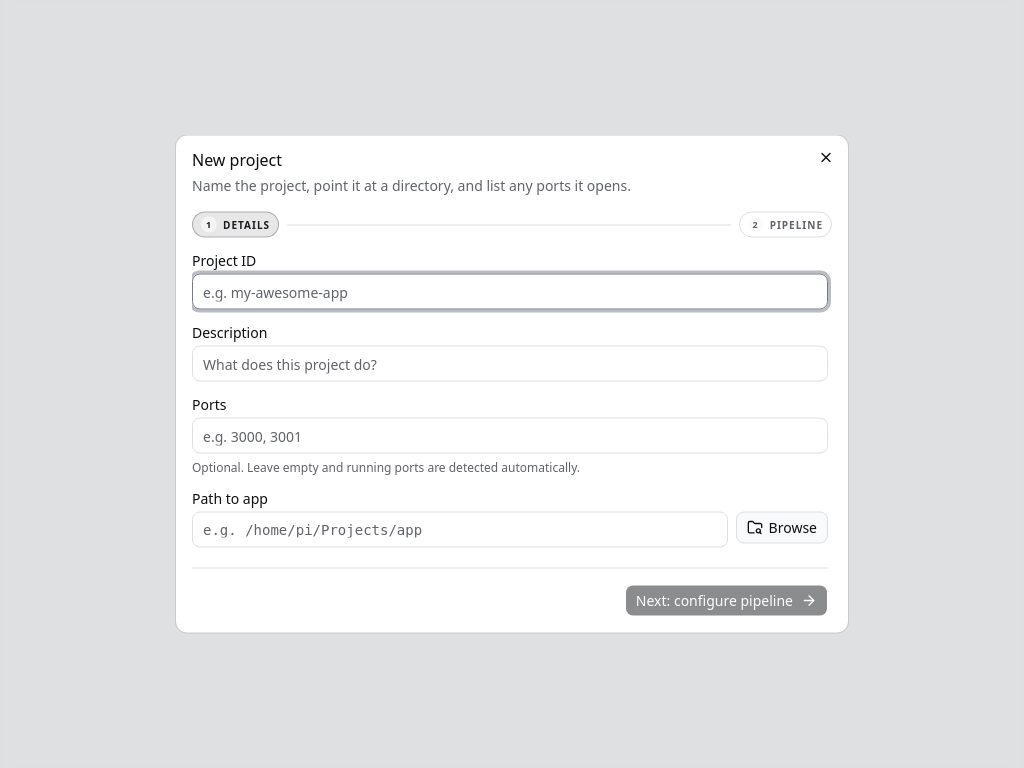
CreateProjectDialog pipeline step › disables save once every step is removed
The width and height of the screenshot is (1024, 768).
Type "demo" into the field labelled "Project ID" at point(510, 292), box [192,274,828,310]
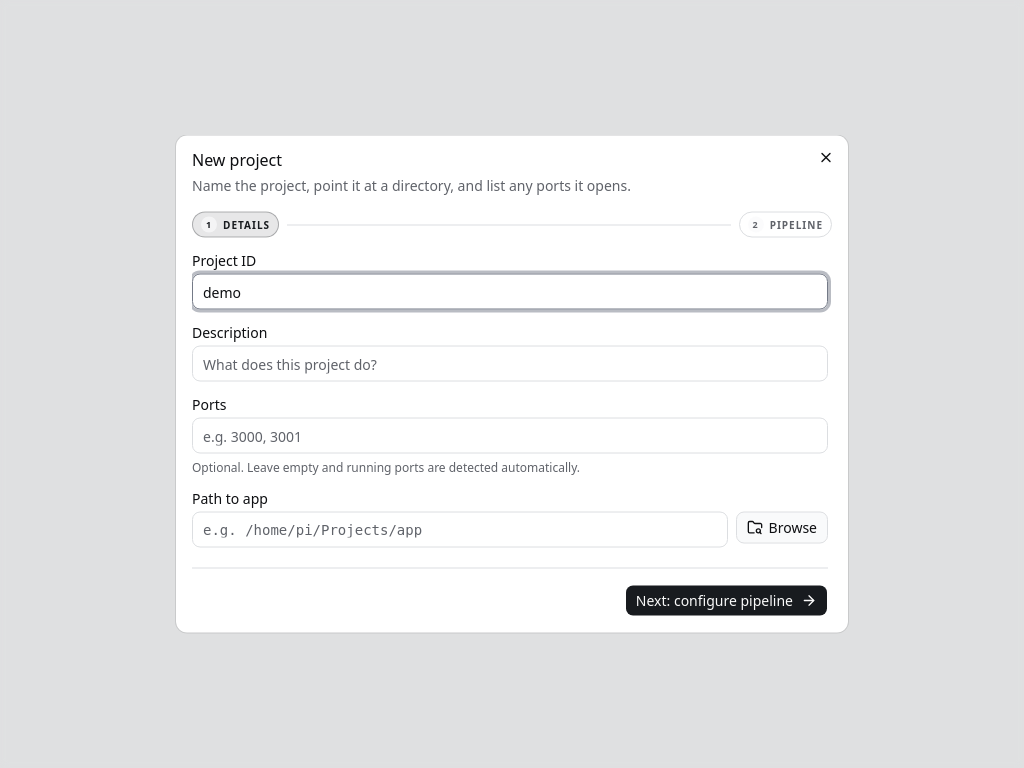
Click the button "Next: configure pipeline" at point(726, 600), box [625,584,828,616]
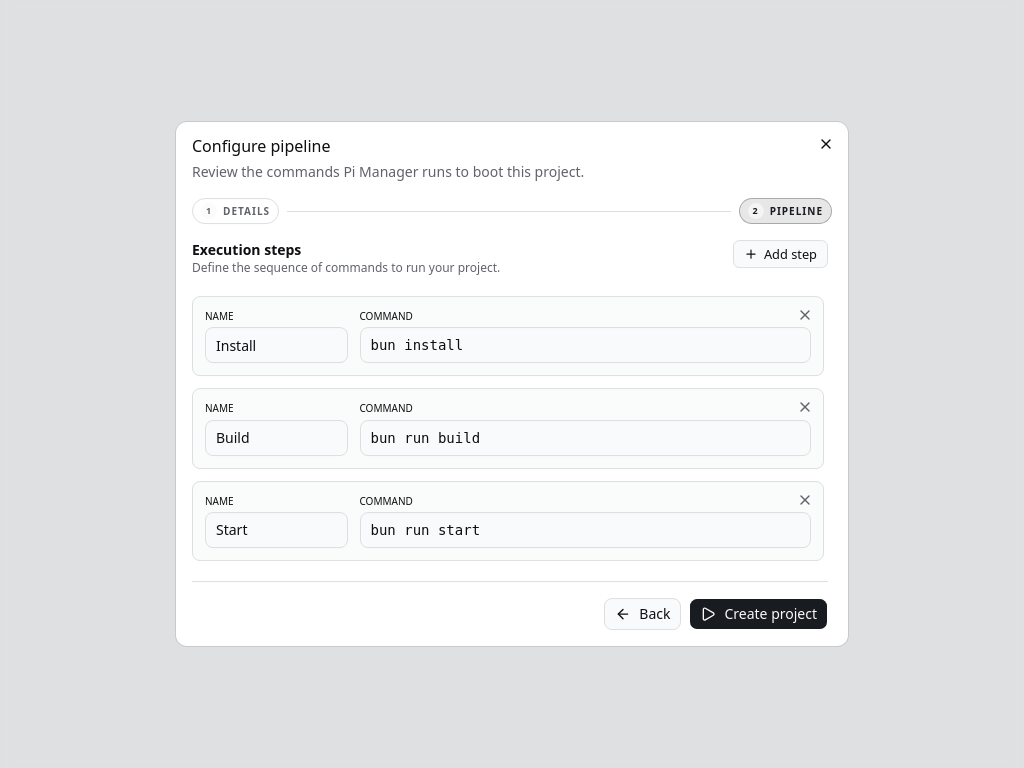
Now the heading "Configure pipeline" is shown, box [192,135,330,157]
Click the button named "Remove step 1" at point(805, 315), box [791,301,819,329]
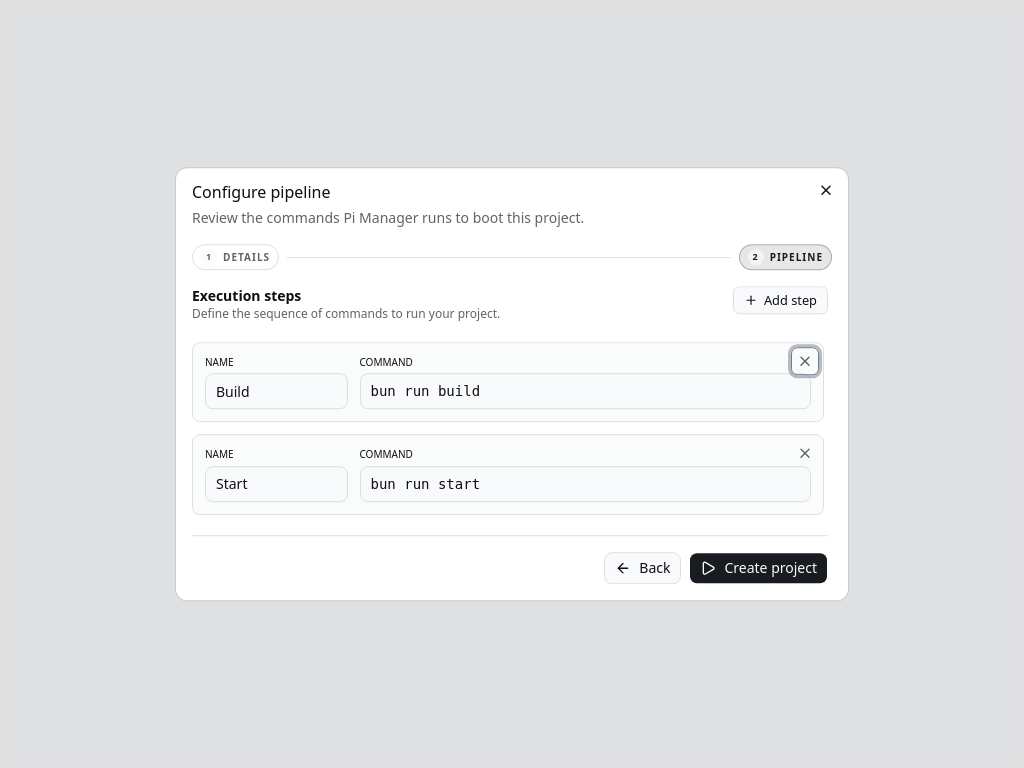
Click the button named "Remove step 1" at point(805, 361), box [791,347,819,375]
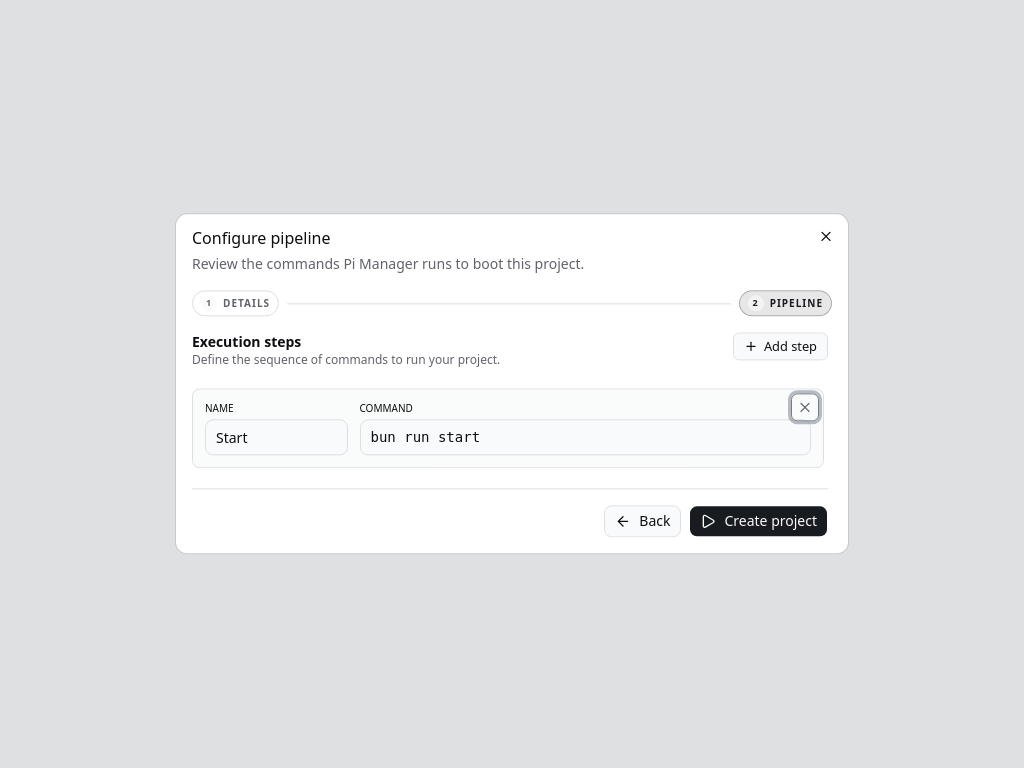
Click the button named "Remove step 1" at point(805, 407), box [791,393,819,421]
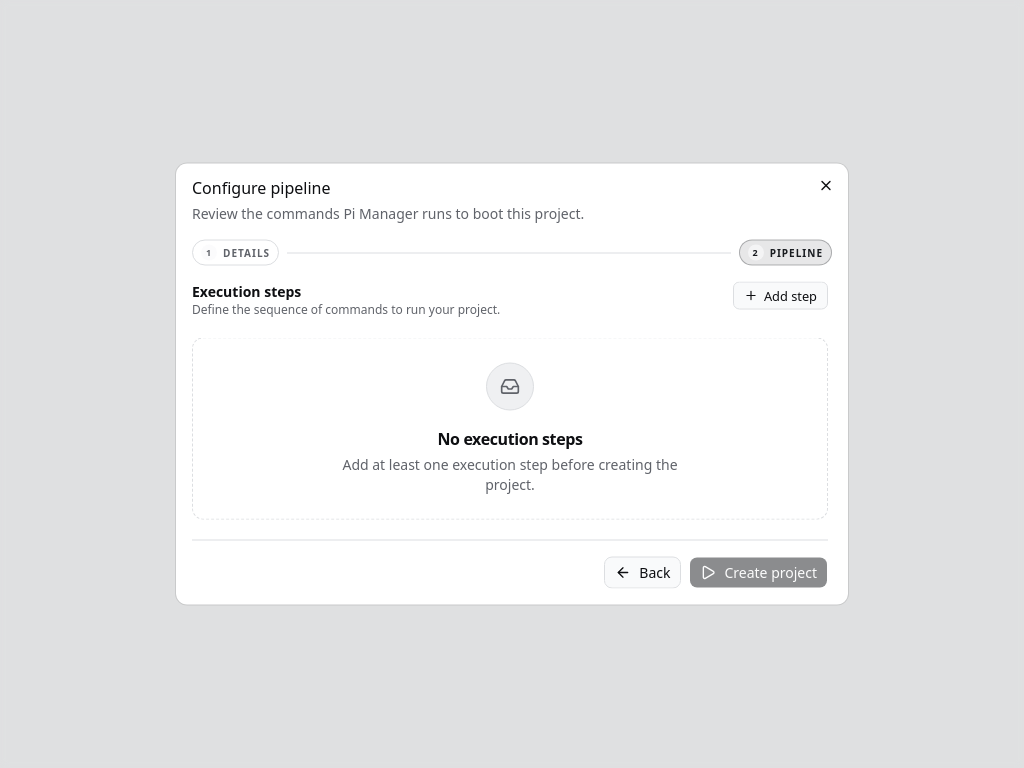
Now the text "Add at least one execution step before creating the project." is shown, box [318,454,702,494]
Now the button "Create project" is disabled, box [689,556,828,588]
